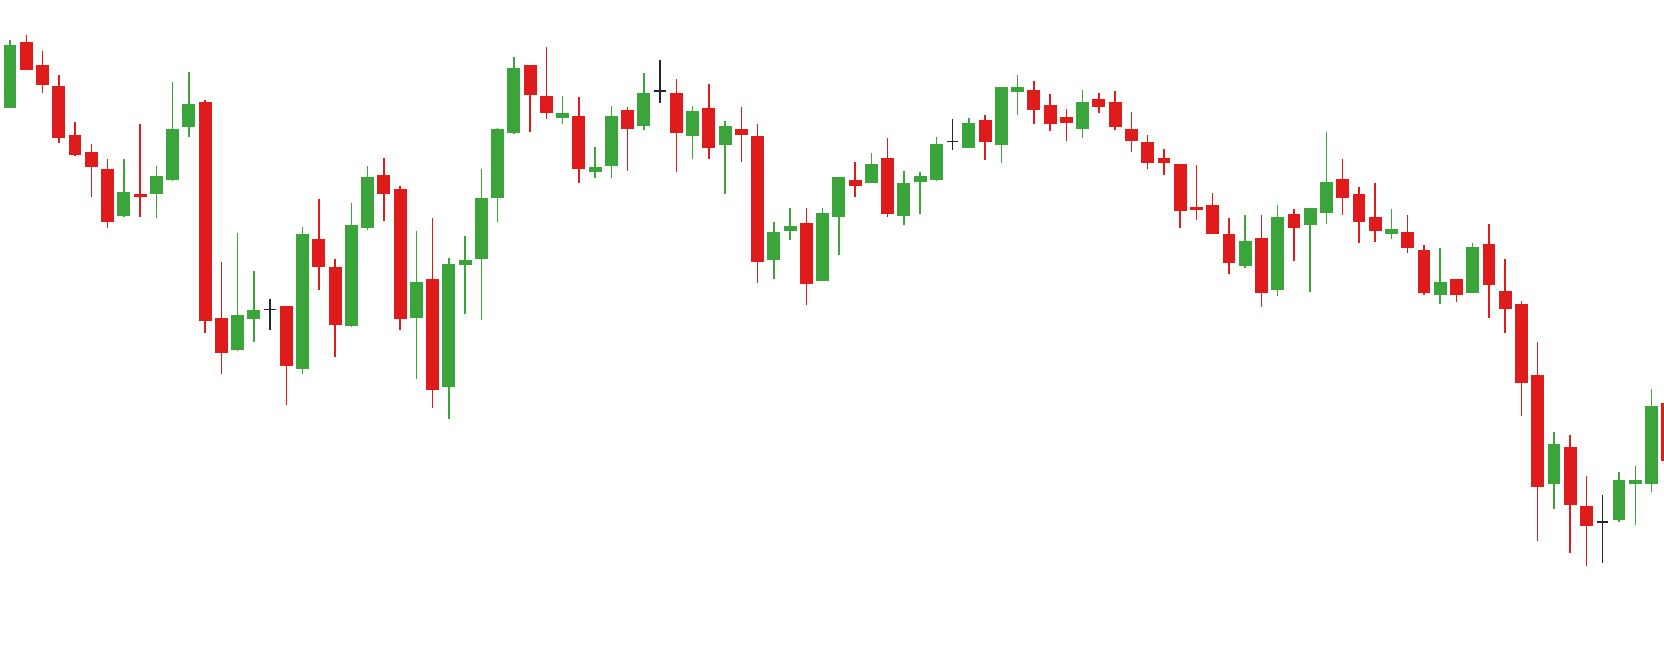buy: (327, 211, 460, 423)
